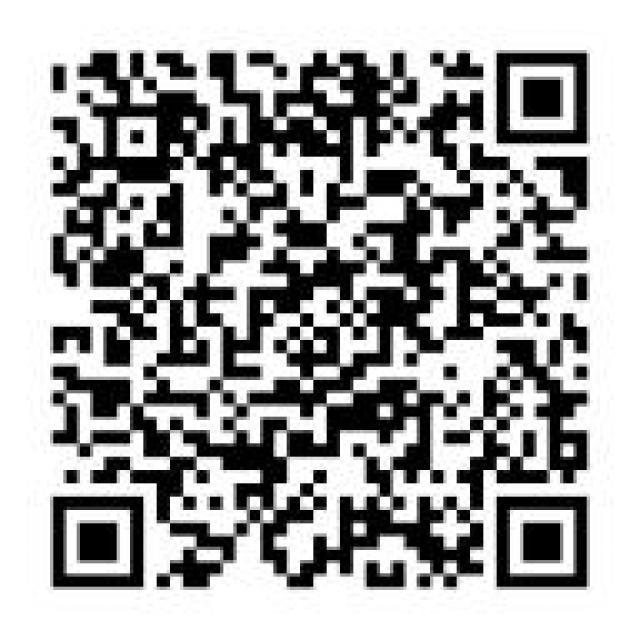qr_code: (52, 51, 589, 589)
